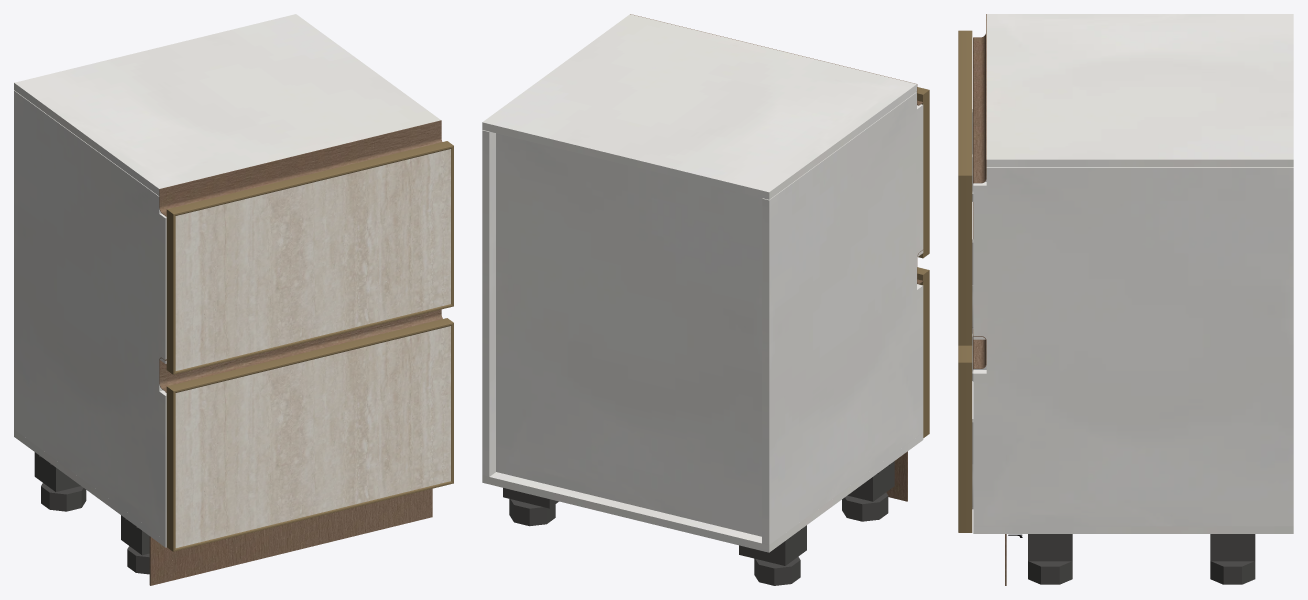
File: BC-DW-CJ-ST-XXX-2HB-XXX-600-720-560-15.glb
3 views of the same model, side by side, from view 1: azimuth 30°, elevation 25°; view 2: azimuth 150°, elevation 25°; view 3: azimuth 270°, elevation 25° (orthographic). The views are drawn at different scales.
Visible parts, largest first — view 1: TP_node, Object_node_67, Object_node_69, TP_node_1, Object_node_71, ExtrSplGeo, ExtrSplGeo_node, Extrusion_node_2, Extrusion, Extrusion_node_1, Extrusion_node_5, TP (+5 smaller); view 2: TP_node_6, TP_node, TP_node_1, TP, TP_node_0, Extrusion_node_5, Extrusion_node_1, Plate, Foot, Foot_node_0, Foot_node, Plate_node_0 (+1 smaller); view 3: TP_node_0, TP_node_1, TP, Extrusion_node, Extrusion_node_3, Extrusion_node_2, ExtrSplGeo, Plate_node, Plate_node_1, Foot_node, Foot_node_1, ExtrSplGeo_node.
Boxes of the visible parts, x1,y1,x2,y2 form: TP_node: (14, 90, 166, 540); Object_node_67: (175, 326, 450, 547); Object_node_69: (175, 149, 450, 370); TP_node_1: (14, 14, 440, 195); Object_node_71: (149, 488, 432, 585); ExtrSplGeo: (159, 120, 442, 216); ExtrSplGeo_node: (159, 309, 442, 392); Extrusion_node_2: (167, 141, 453, 215); Extrusion: (167, 318, 453, 392); Extrusion_node_1: (166, 386, 175, 551); Extrusion_node_5: (166, 209, 175, 374); TP: (14, 429, 166, 547); TP_node_6: (496, 133, 762, 536); TP_node: (762, 92, 923, 544); TP_node_1: (482, 14, 916, 199); TP: (482, 433, 923, 552); TP_node_0: (482, 130, 495, 476); Extrusion_node_5: (917, 90, 929, 258); Extrusion_node_1: (918, 270, 929, 437); Plate: (739, 525, 806, 565); Foot: (754, 556, 800, 585); Foot_node_0: (842, 492, 888, 521); Foot_node: (509, 499, 555, 526); Plate_node_0: (847, 461, 894, 501); TP_node_0: (973, 167, 1293, 526); TP_node_1: (986, 14, 1293, 167); TP: (973, 526, 1293, 533); Extrusion_node: (958, 362, 972, 532); Extrusion_node_3: (958, 175, 972, 345); Extrusion_node_2: (958, 30, 972, 175); ExtrSplGeo: (973, 14, 986, 183); Plate_node: (1210, 534, 1255, 561); Plate_node_1: (1028, 534, 1072, 561); Foot_node: (1210, 561, 1255, 584); Foot_node_1: (1028, 561, 1072, 584); ExtrSplGeo_node: (973, 202, 986, 369).
Size of what is drawn, in the model's own units: 0.6 by 0.82 by 0.5842.
Materials: 7 (3 with a texture image).
